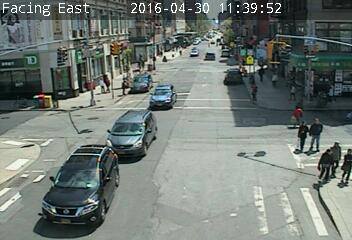neg: (246, 120, 265, 146)
pos: (287, 83, 301, 102)
